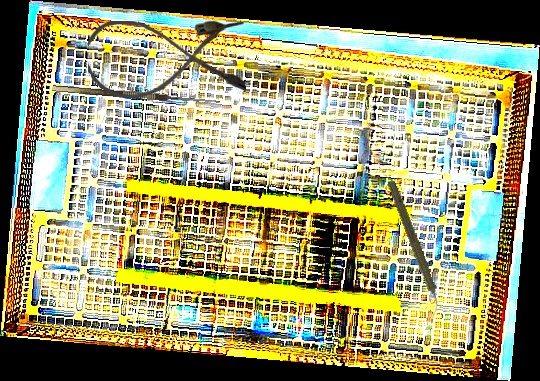Cannula: (87, 18, 246, 99)
Handpiece: (382, 178, 448, 318)
Hook Surgical: (52, 76, 221, 106)
